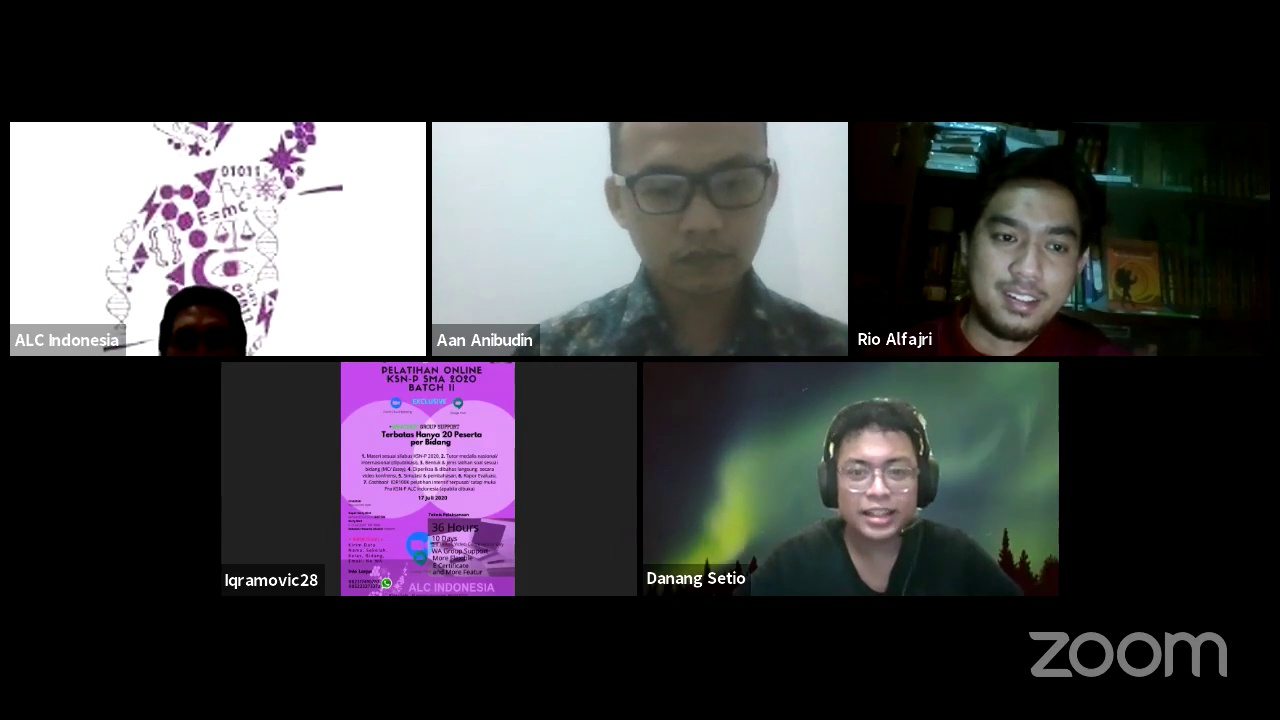Not Distracted: (602, 132, 783, 287), (789, 407, 962, 546), (956, 176, 1097, 333)
